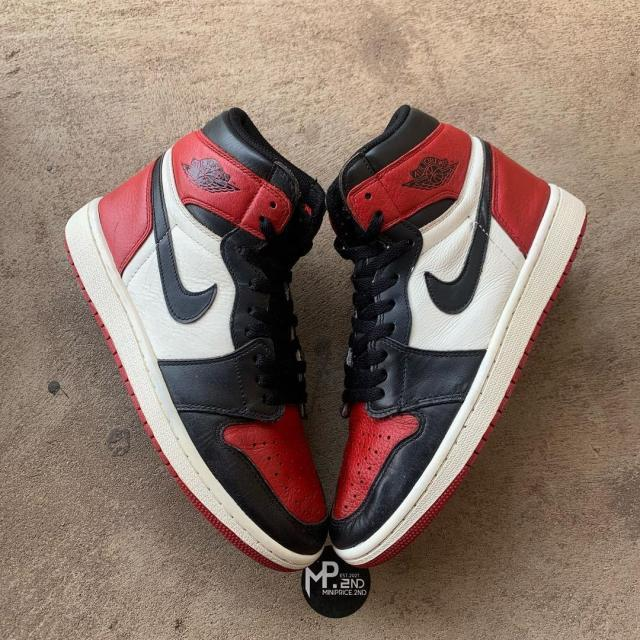nike original jordan 1: (58, 99, 338, 574), (312, 117, 590, 573)
